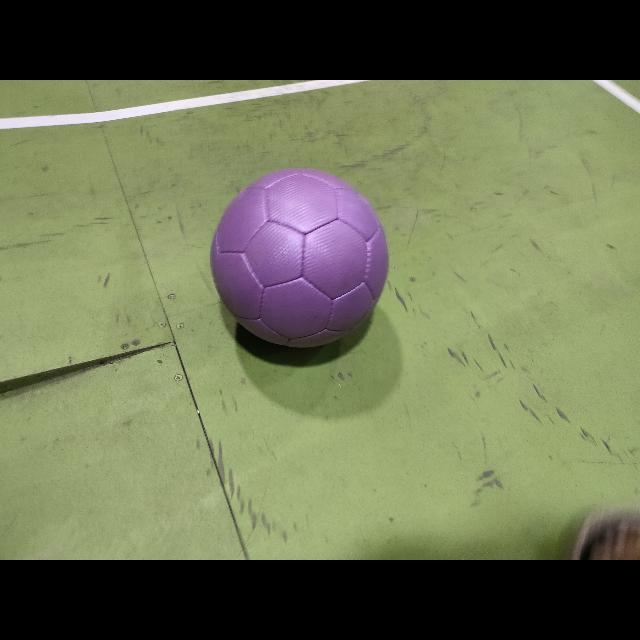P: (210, 168, 388, 348)
